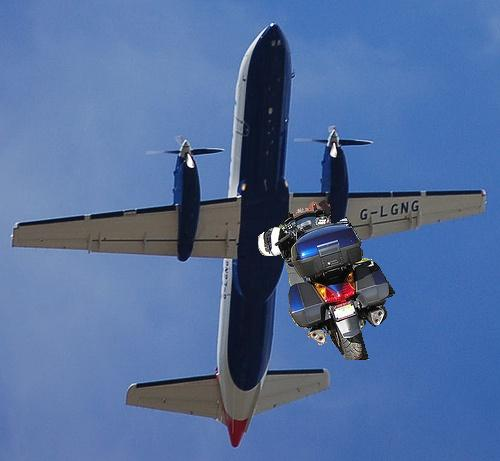tampered: (259, 201, 395, 360)
